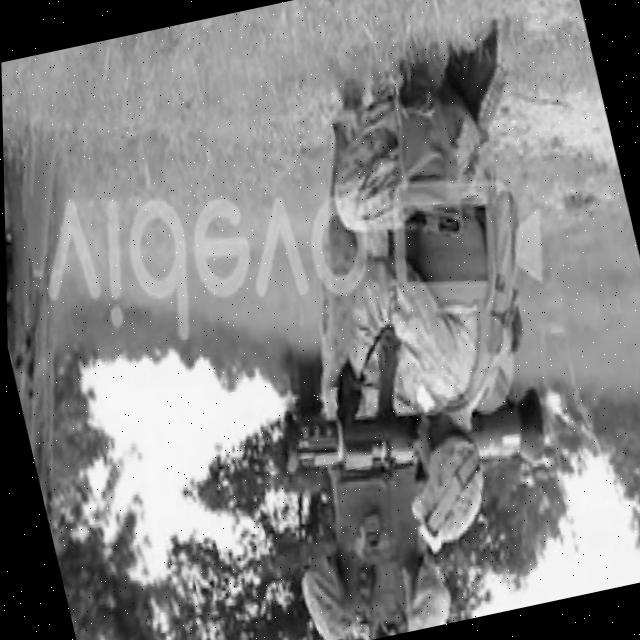rocket: (259, 334, 556, 520)
